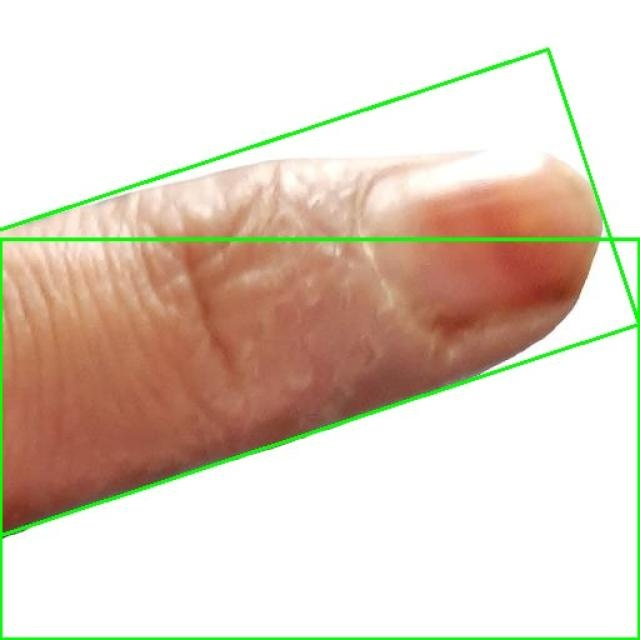Contact Dermatitis: (0, 49, 640, 566), (0, 239, 639, 639)
